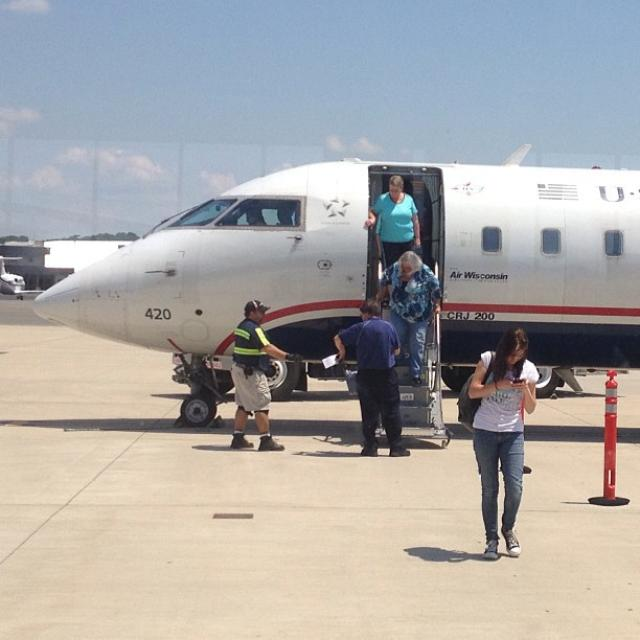airplane: (36, 157, 640, 429), (0, 256, 24, 296)
